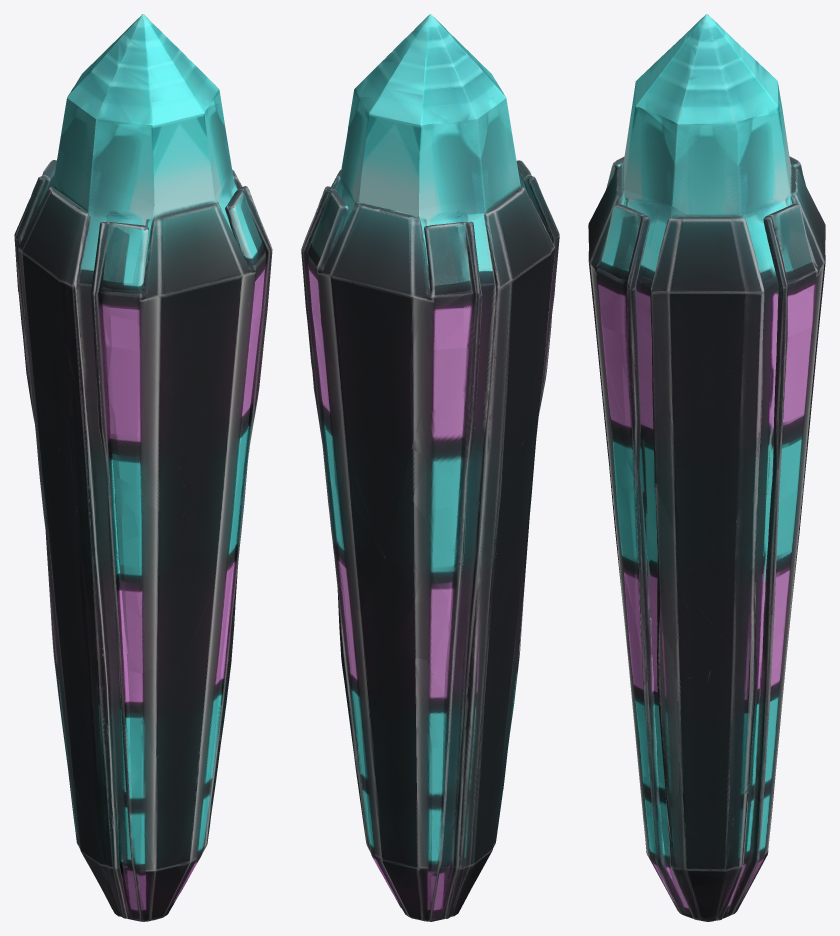
The model's file is beacon-raw.glb.
3 views of the same model, side by side, from view 1: azimuth 30°, elevation 25°; view 2: azimuth 150°, elevation 25°; view 3: azimuth 270°, elevation 25° (orthographic).
Parts seen in each view (by area): view 1: Mesh_0; view 2: Mesh_0; view 3: Mesh_0.
Boxes of the visible parts, x1,y1,x2,y2 form: Mesh_0: (14, 14, 272, 921); Mesh_0: (301, 14, 559, 921); Mesh_0: (588, 14, 825, 921).
Size of the model in its own units: 0.4481 by 1.9 by 0.4499.
1 material, 1 textured.
